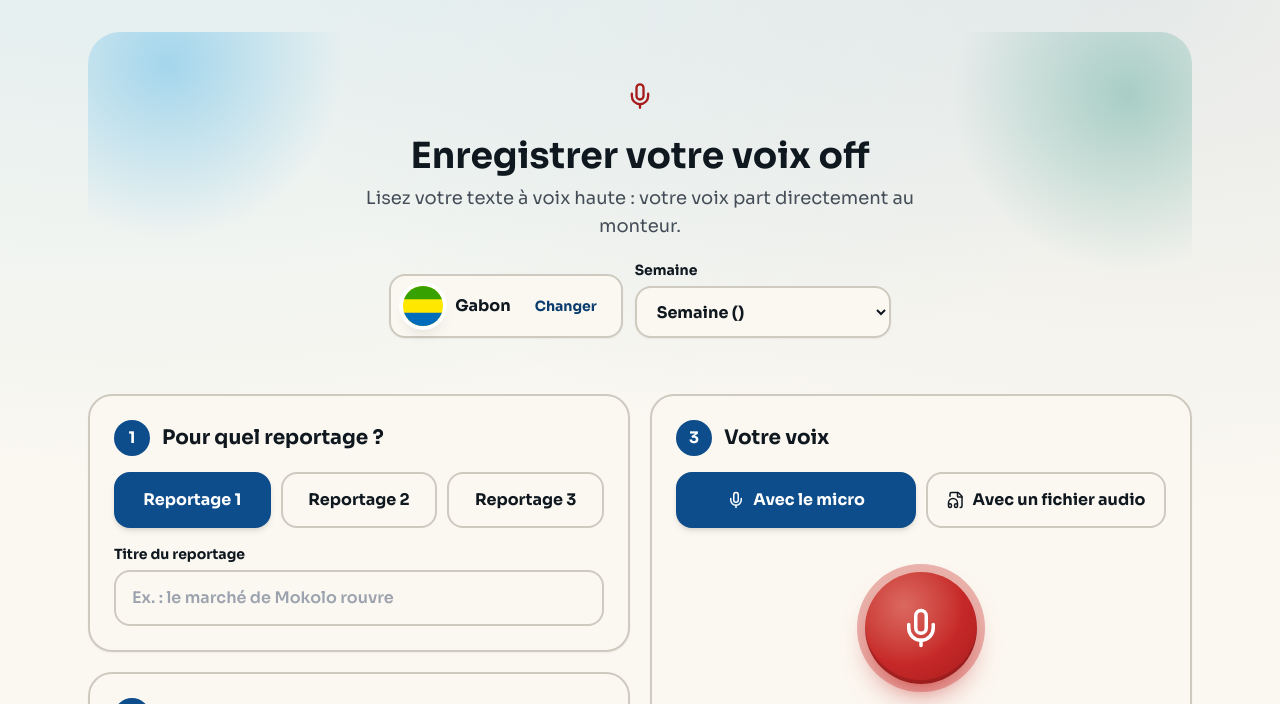
Scenario: StudioVoixJournaliste › choisir « Reportage 2 » le marque et pré-remplit le titre
Click the button "Reportage 2" at (359, 500), box [281,472,437,528]
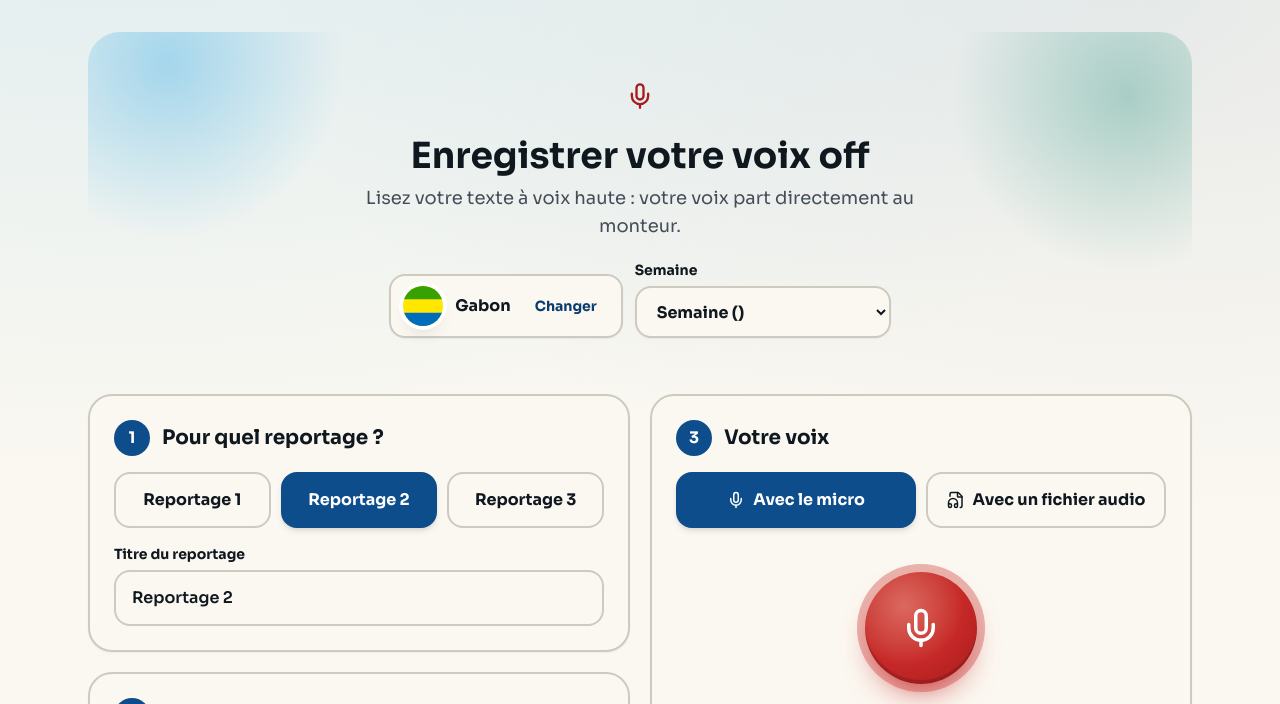
Expected: the field labelled "Titre du reportage" holds "Reportage 2", [114,570,604,626]
